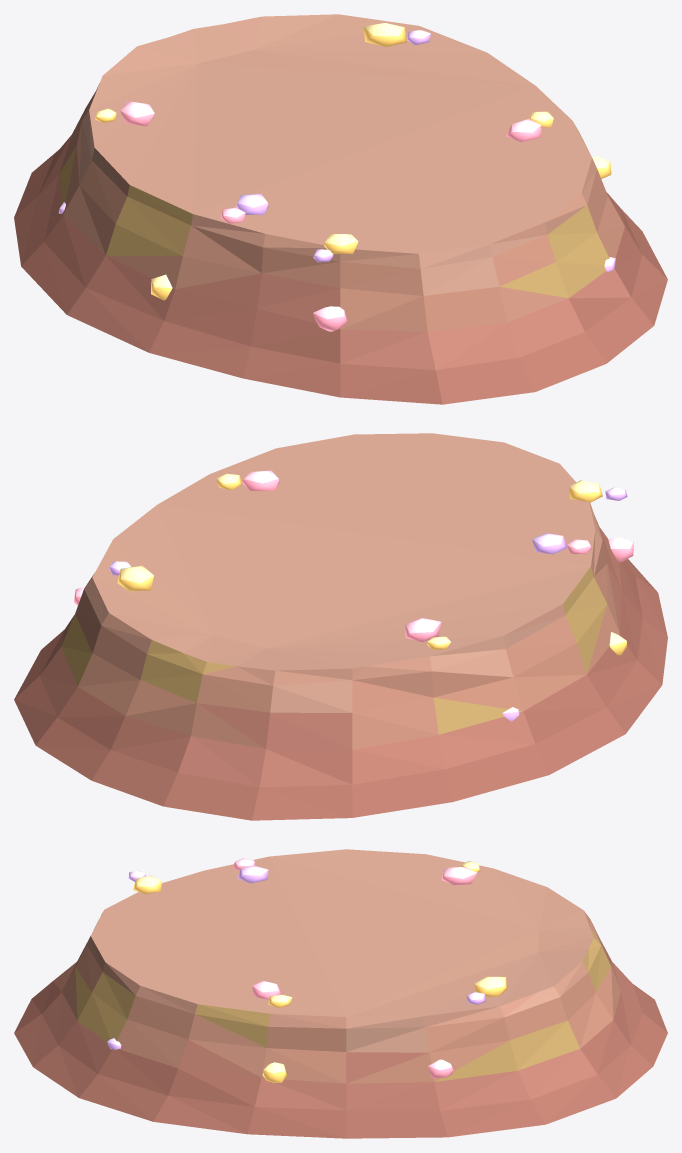
File: reef.glb
3 renders of one model, top to bottom at view 1: azimuth 30°, elevation 25°; view 2: azimuth 150°, elevation 25°; view 3: azimuth 270°, elevation 25°, orthographic. The views are drawn at different scales.
Visible parts, largest first — view 1: reef; view 2: reef; view 3: reef.
Boxes of the visible parts, bbox=[...] form: reef: bbox=[14, 14, 667, 404]; reef: bbox=[14, 433, 667, 820]; reef: bbox=[14, 849, 667, 1138].
Size of the model in its own units: 78 by 18.42 by 98.8.
